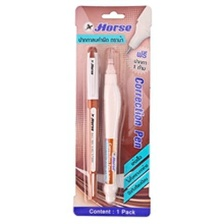book: (72, 3, 154, 219)
correction_fluid: (100, 44, 123, 204)
